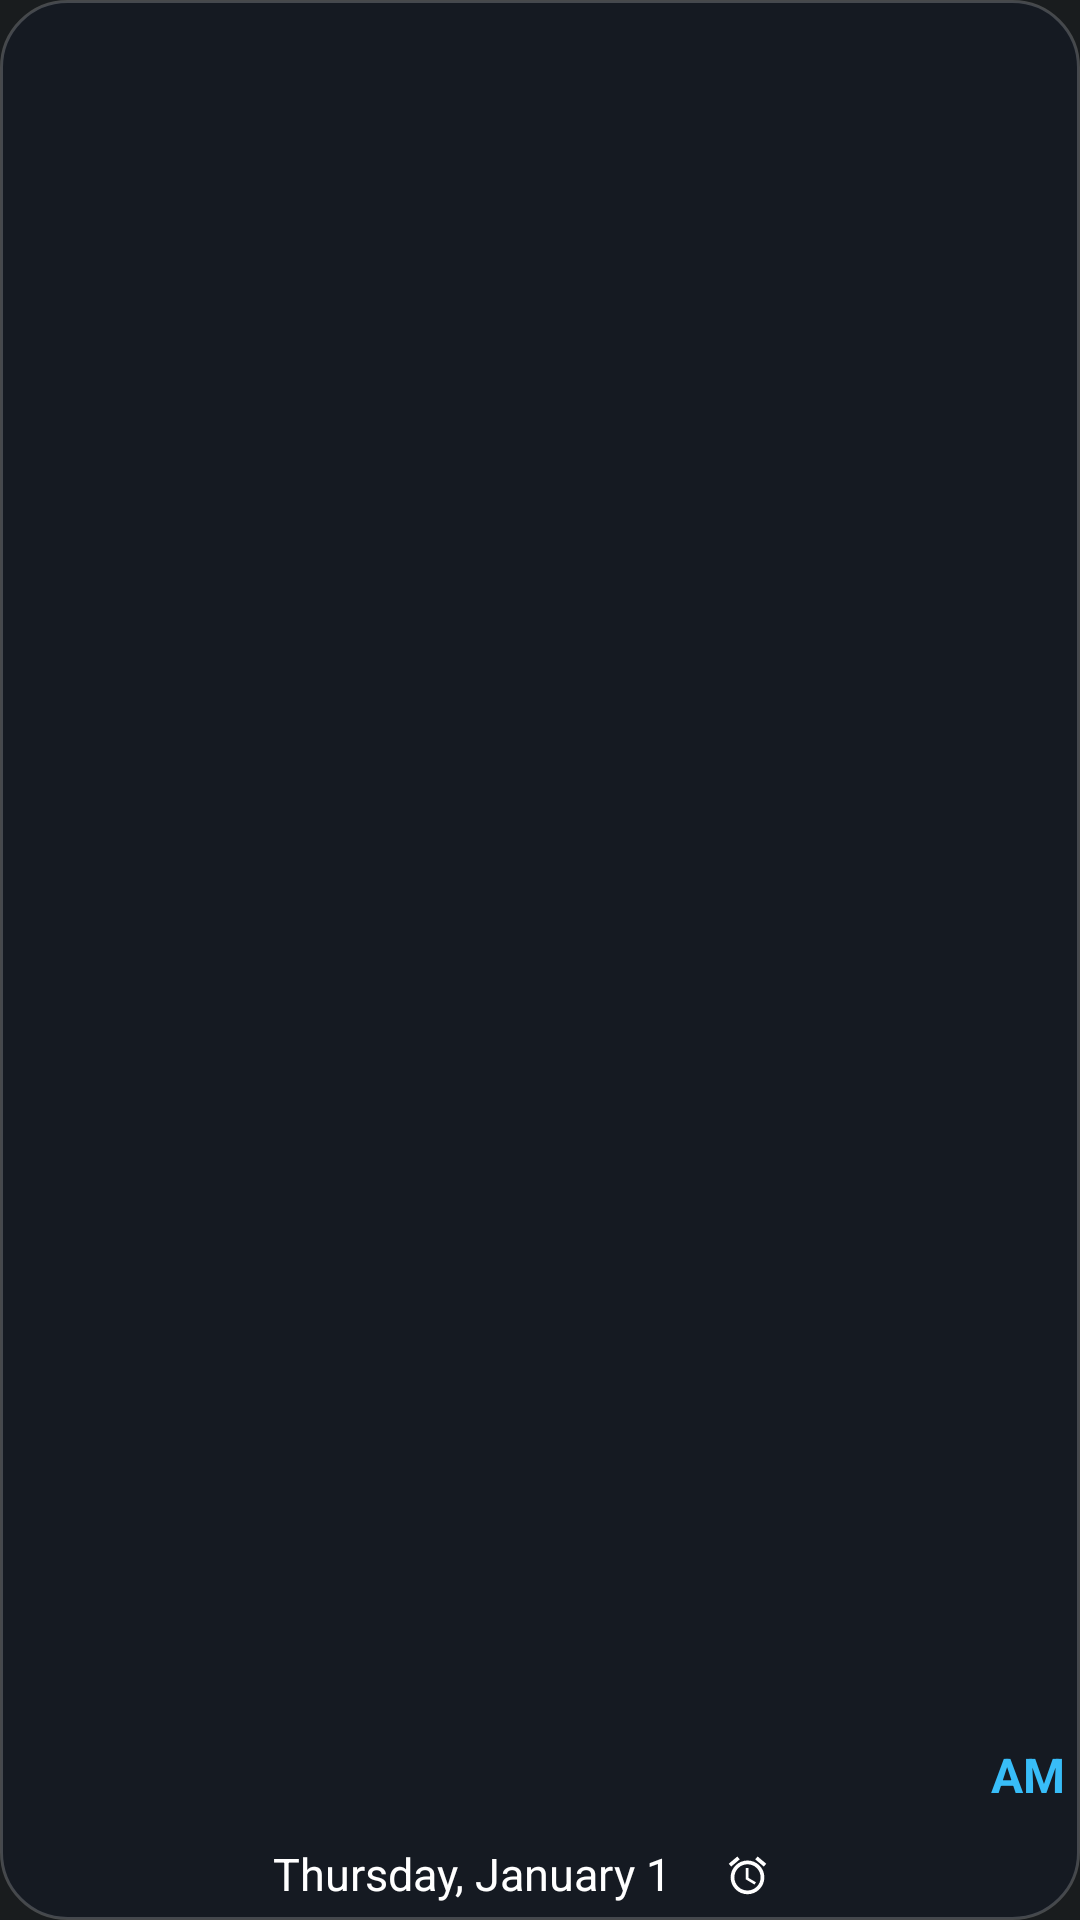

Screen size 1080×1920. Icon name, then its box in pixels as (x1, y1, x2, y2):
Next alarm: (729, 1856, 766, 1895)
